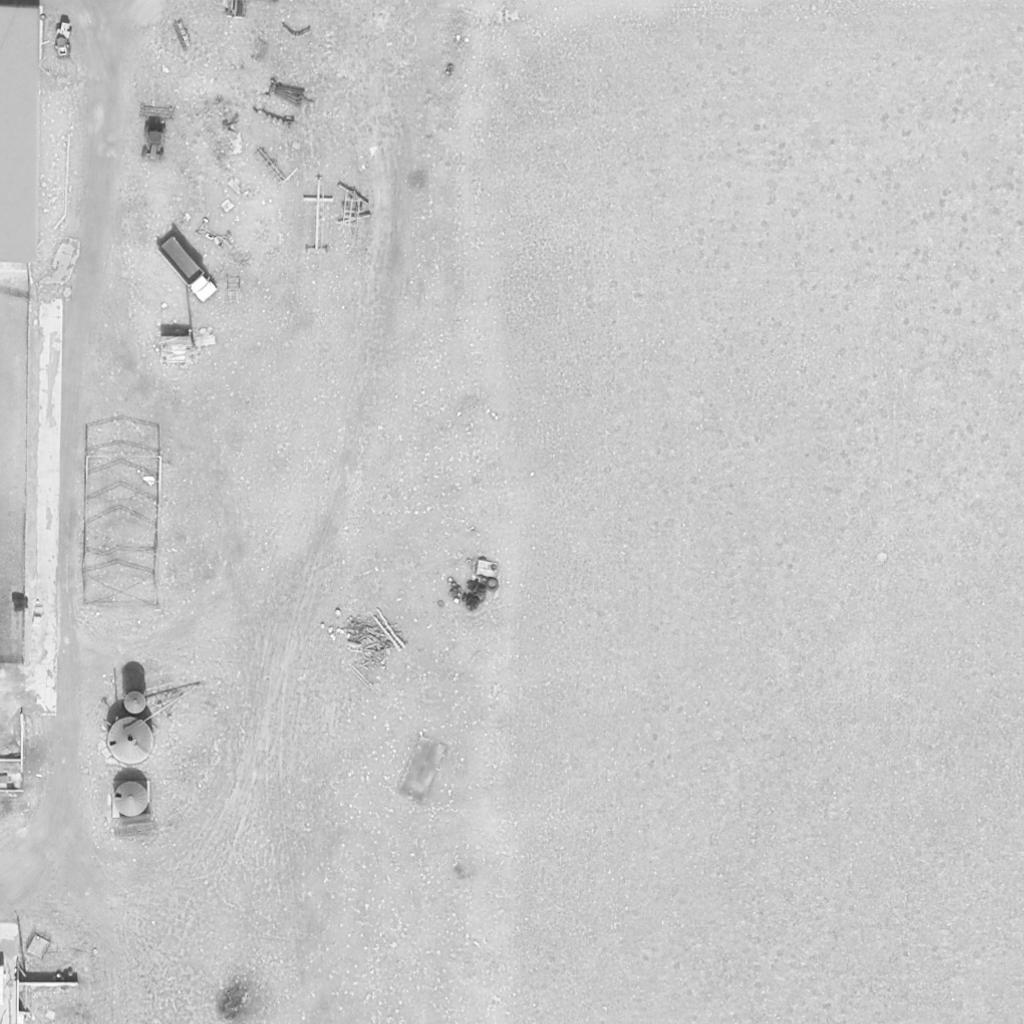vehicle: (155, 235, 219, 305), (137, 115, 171, 163), (51, 21, 75, 61)
